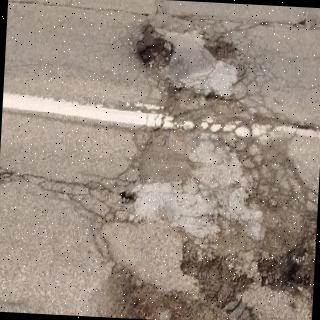pothole: (256, 221, 317, 314), (181, 243, 256, 311), (137, 21, 172, 69), (205, 39, 232, 65)
